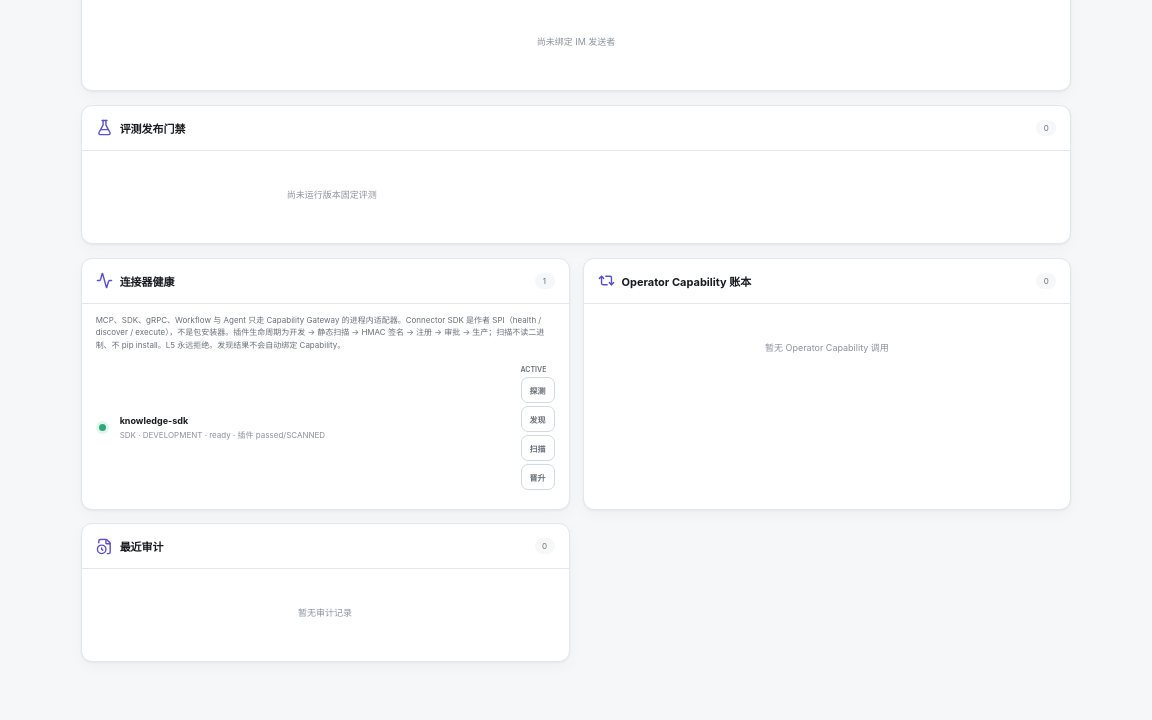
Test: AdminView interactions › shows connector discovery without auto-binding a capability
expect the text "knowledge-sdk" is shown: met, box [120,415,188,426]
Click the button "发现" at [538, 419], box [520,406,554,432]
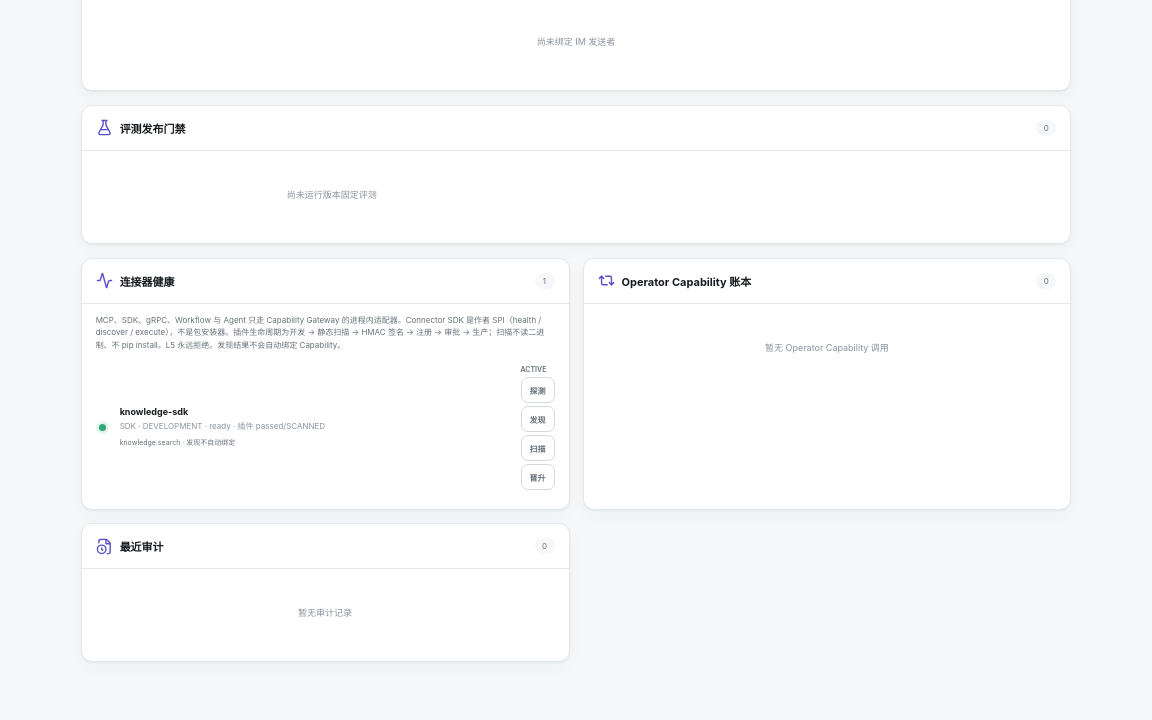
expect the list item "knowledge.search · 发现不自动绑定" is shown: met, box [120,438,235,447]
